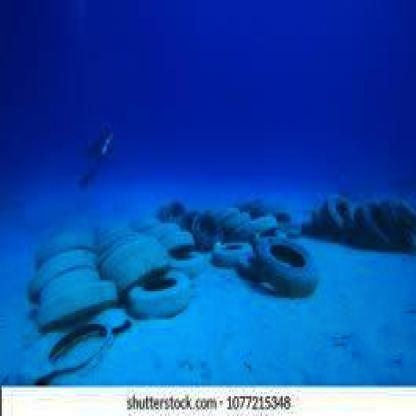tire: (116, 265, 193, 331), (44, 282, 138, 335), (256, 241, 333, 298), (140, 236, 218, 282), (199, 208, 256, 267), (316, 184, 374, 236), (258, 197, 306, 247)
